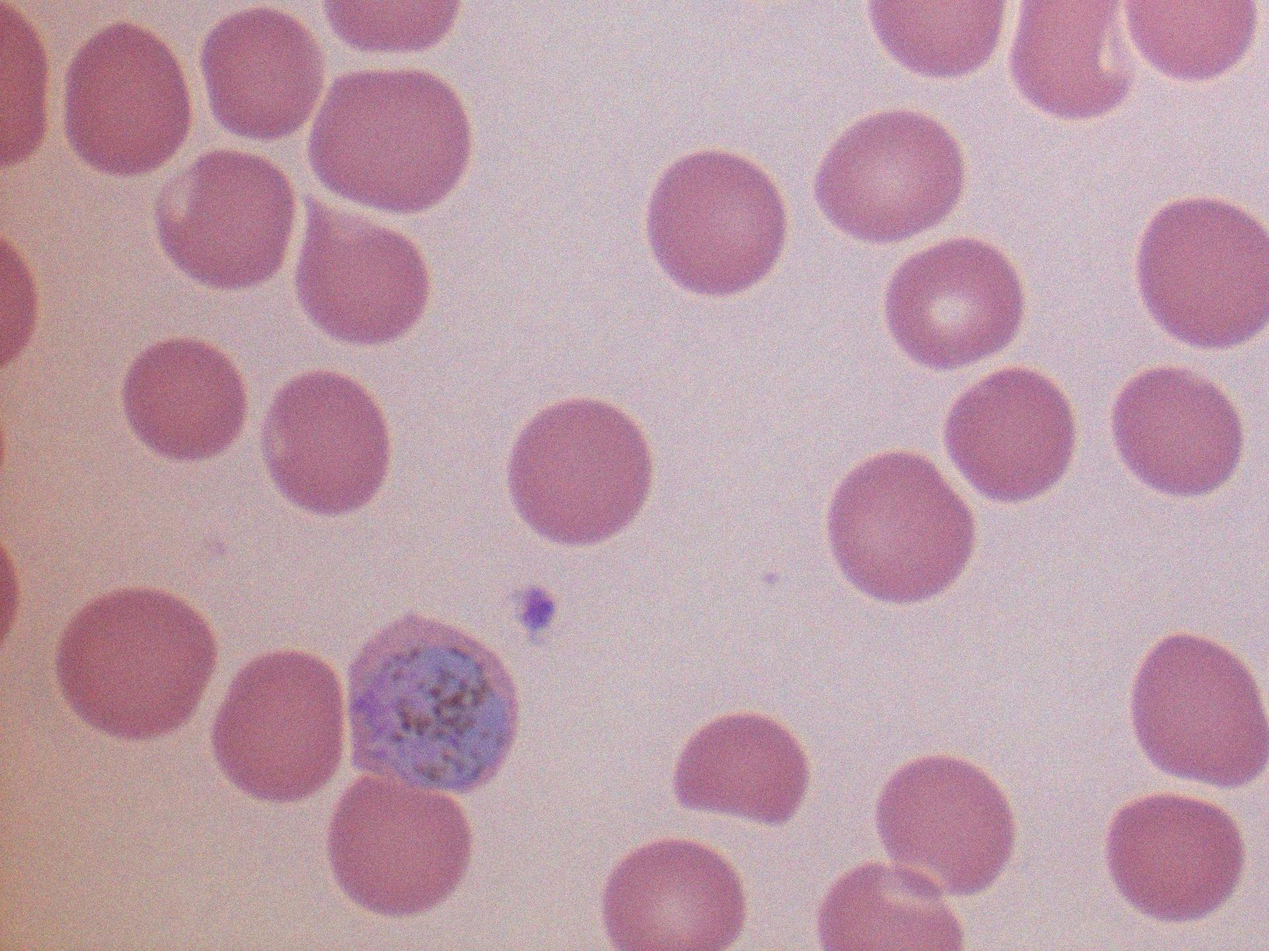Infected: (344, 611, 518, 796), (311, 62, 467, 212), (648, 151, 789, 302), (295, 190, 429, 343), (815, 109, 964, 243), (262, 366, 389, 517), (70, 21, 194, 174), (159, 155, 298, 290), (881, 236, 1022, 368), (203, 3, 326, 143), (126, 338, 244, 458)
Uninfected: (57, 591, 223, 741), (831, 448, 978, 600), (505, 397, 651, 546), (1137, 631, 1269, 793), (1135, 192, 1269, 346), (214, 648, 344, 802), (879, 759, 1018, 899), (1108, 366, 1248, 502), (335, 776, 469, 916), (950, 366, 1072, 503), (1110, 796, 1240, 922), (604, 840, 742, 951), (676, 714, 805, 824), (824, 862, 969, 951)
